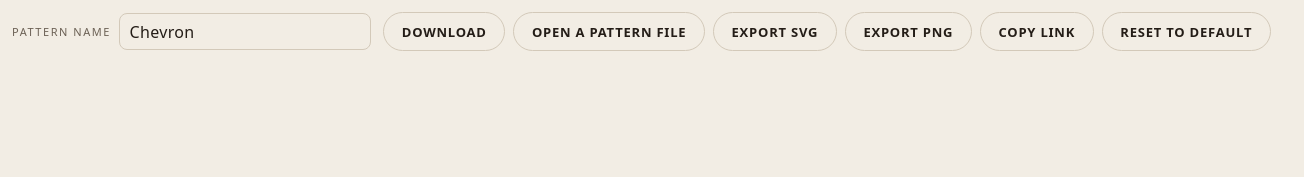
Test: FileMenu › shows the link to copy by hand when the clipboard refuses
The width and height of the screenshot is (1304, 177).
What coordinates should you click on to do the following:
click the button "Copy link"
I would click on:
 (1037, 32)
Its box is [980,12,1094,51].
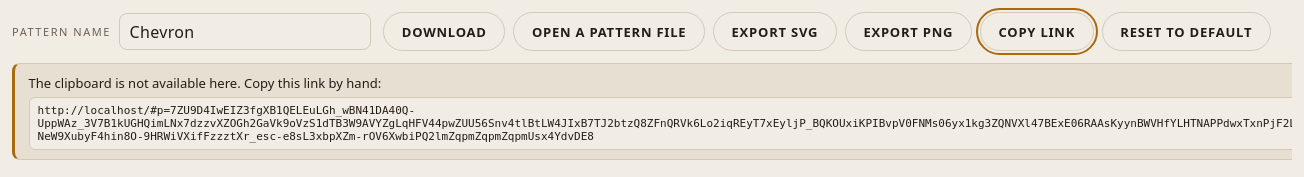
Expected: the message shows "clipboard is not available", [29,74,381,92]
